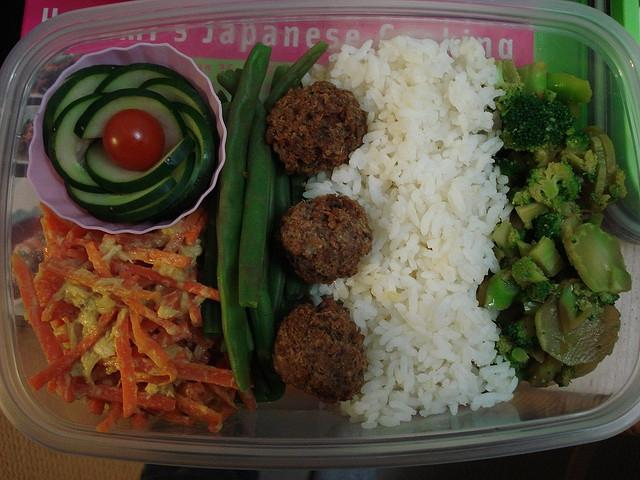broccoli: (499, 86, 576, 168), (562, 222, 626, 292), (560, 283, 620, 334), (527, 162, 581, 210), (526, 235, 566, 278), (484, 269, 522, 310), (546, 73, 592, 106), (502, 315, 540, 351), (511, 257, 549, 284), (556, 202, 582, 220), (566, 225, 576, 243)
carrot: (12, 253, 74, 404), (85, 242, 182, 336), (27, 296, 122, 391), (108, 259, 220, 302), (72, 238, 194, 269), (132, 356, 239, 390), (76, 382, 176, 412), (116, 311, 138, 418), (128, 316, 170, 368), (161, 205, 204, 254), (40, 256, 100, 289), (41, 282, 80, 322), (174, 393, 222, 425), (38, 202, 72, 237), (66, 248, 148, 260), (60, 225, 87, 260), (96, 402, 124, 433), (148, 408, 196, 426), (185, 213, 208, 245), (40, 216, 52, 244), (87, 400, 106, 416), (130, 414, 148, 430), (189, 308, 202, 326), (50, 318, 66, 331), (56, 332, 70, 346)
cucumber: (73, 87, 187, 158), (88, 152, 196, 224), (152, 102, 215, 224), (42, 65, 124, 158), (48, 92, 116, 194), (84, 134, 196, 194), (138, 78, 218, 146), (64, 175, 177, 214), (93, 63, 196, 93), (173, 127, 201, 205)
green bean: (216, 42, 272, 394), (216, 70, 271, 308), (268, 66, 291, 317), (250, 148, 277, 360), (262, 40, 330, 116), (200, 176, 222, 340), (285, 173, 310, 300), (246, 310, 256, 356)
tomato: (102, 109, 166, 171)
